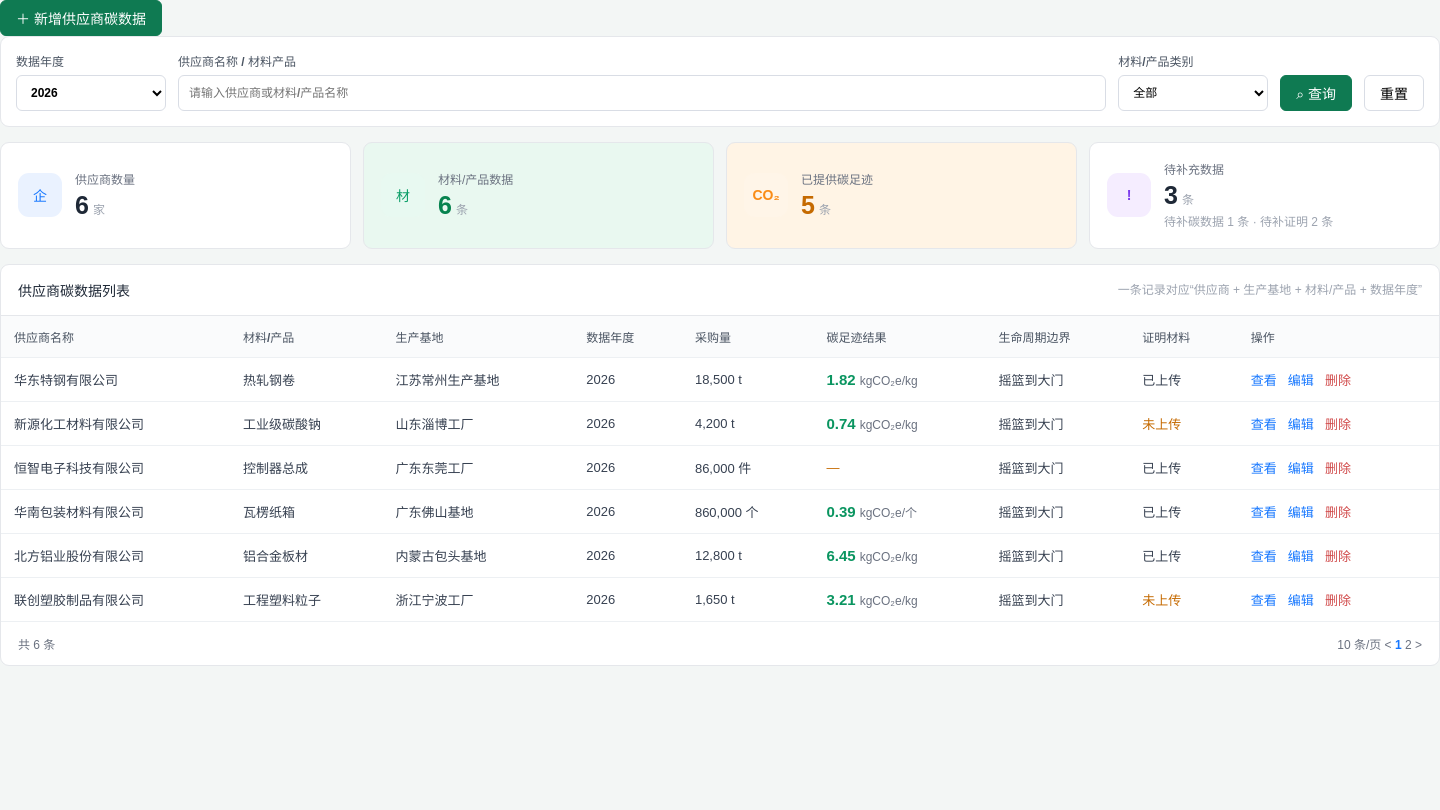
Test: 供应商碳数据采集 › 新增供应商碳数据时要求填写所有碳数据字段
This screenshot has width=1440, height=810.
Click the button "＋ 新增供应商碳数据". click: (81, 18)
box: left=0, top=0, right=162, bottom=36
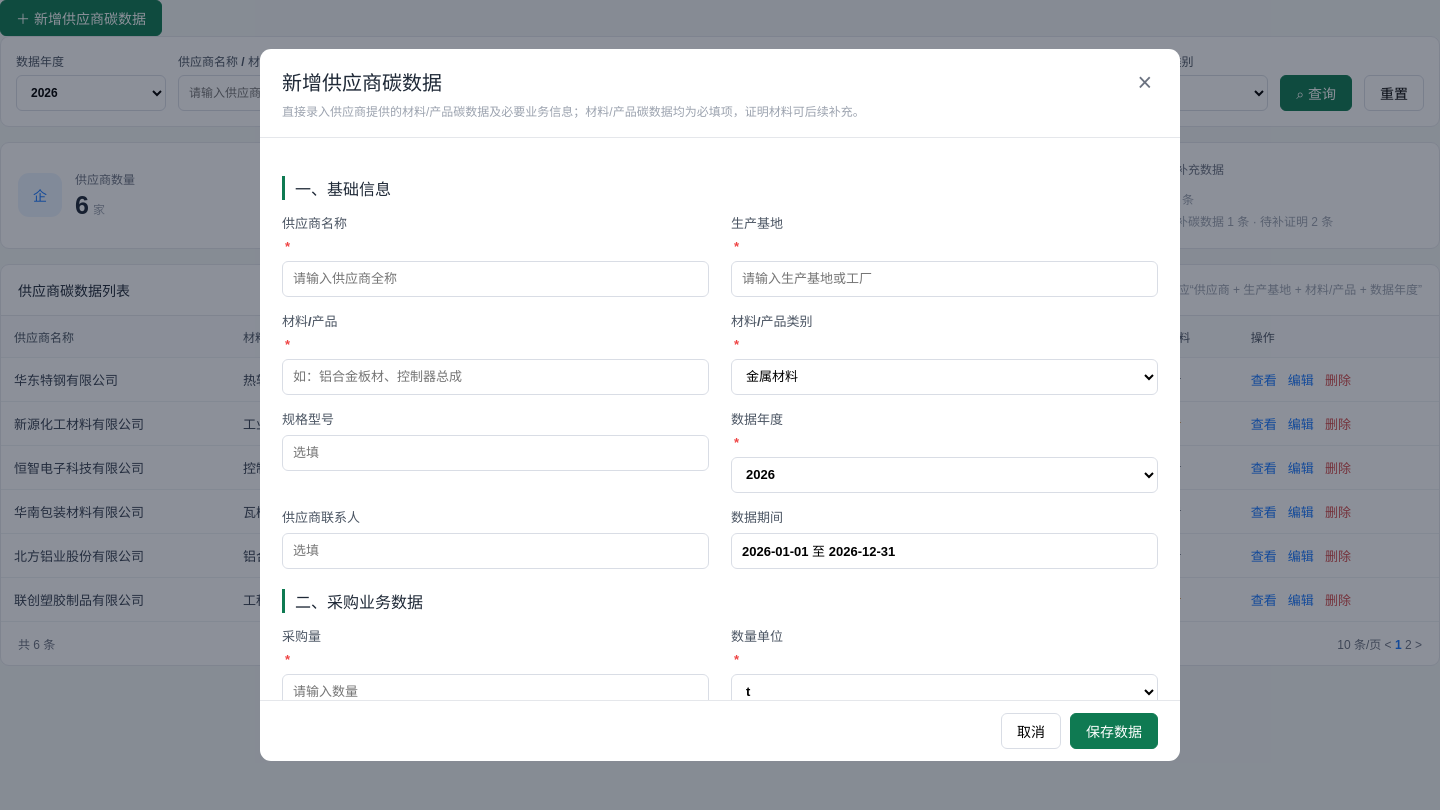
Expected: the button "保存数据" is disabled, left=1070, top=713, right=1158, bottom=749
